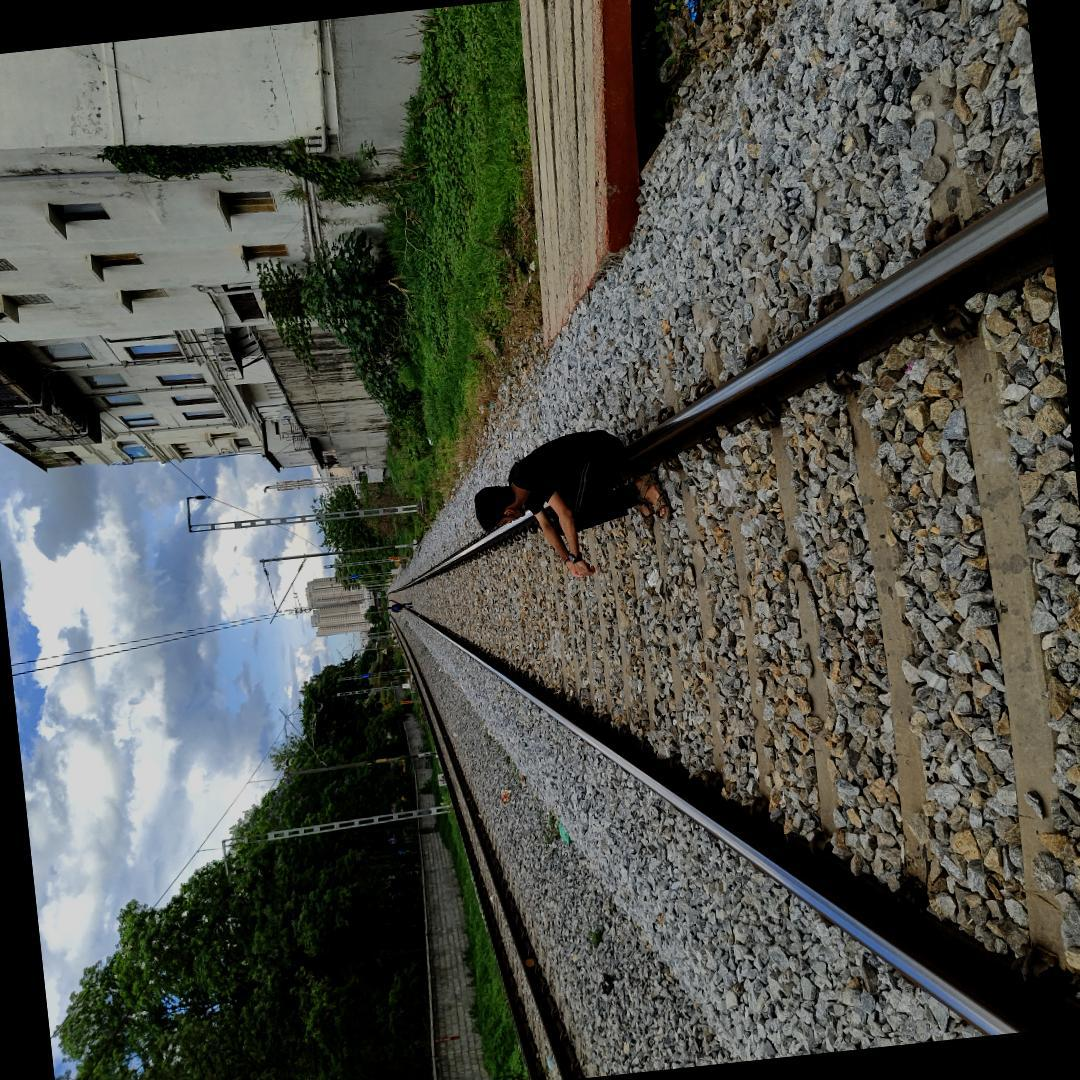sitting: (450, 400, 683, 608)
